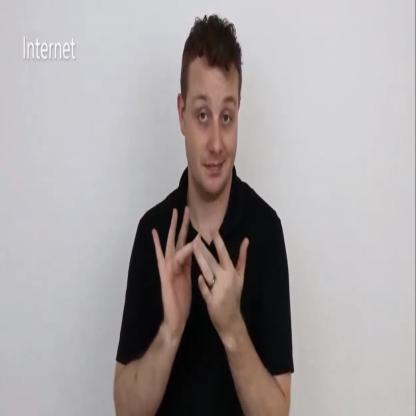Internet: (113, 13, 294, 416)
